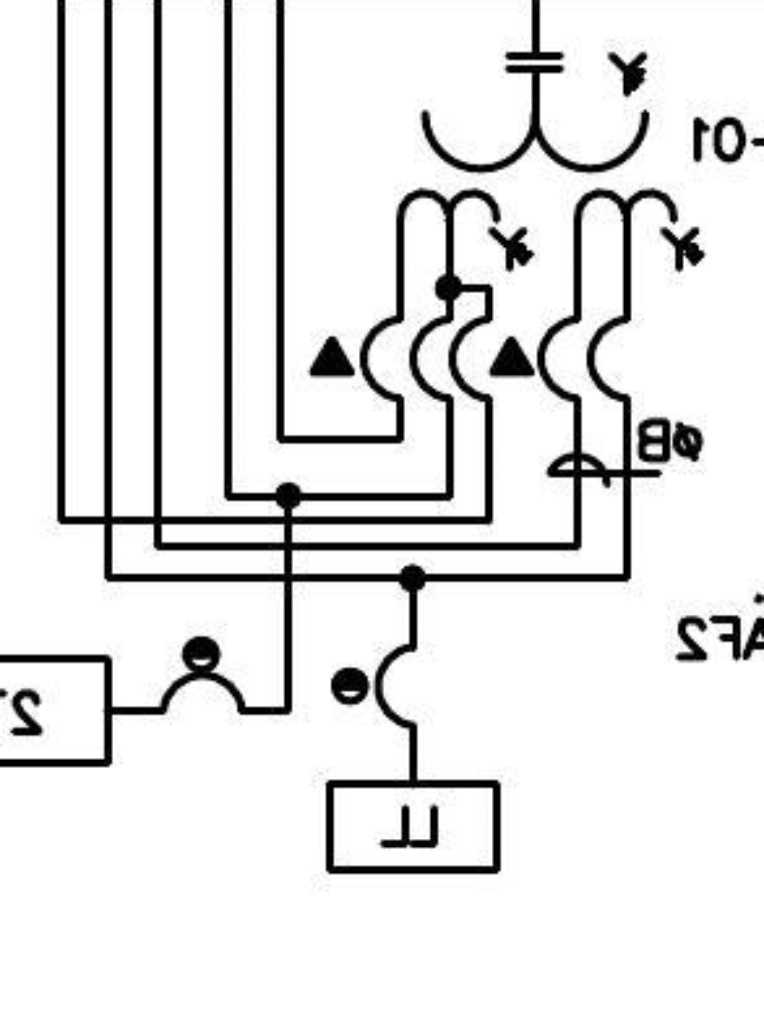115_cvt_3p: (395, 51, 708, 274)
LL: (326, 779, 501, 875)
